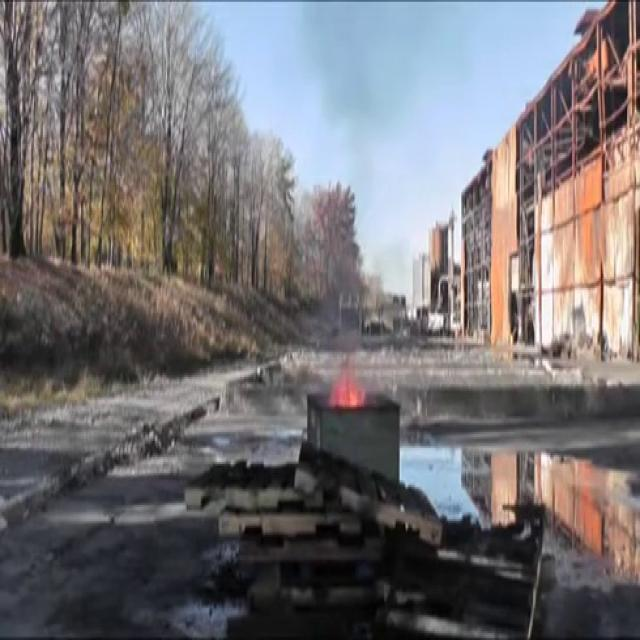Fire: (328, 361, 370, 416)
